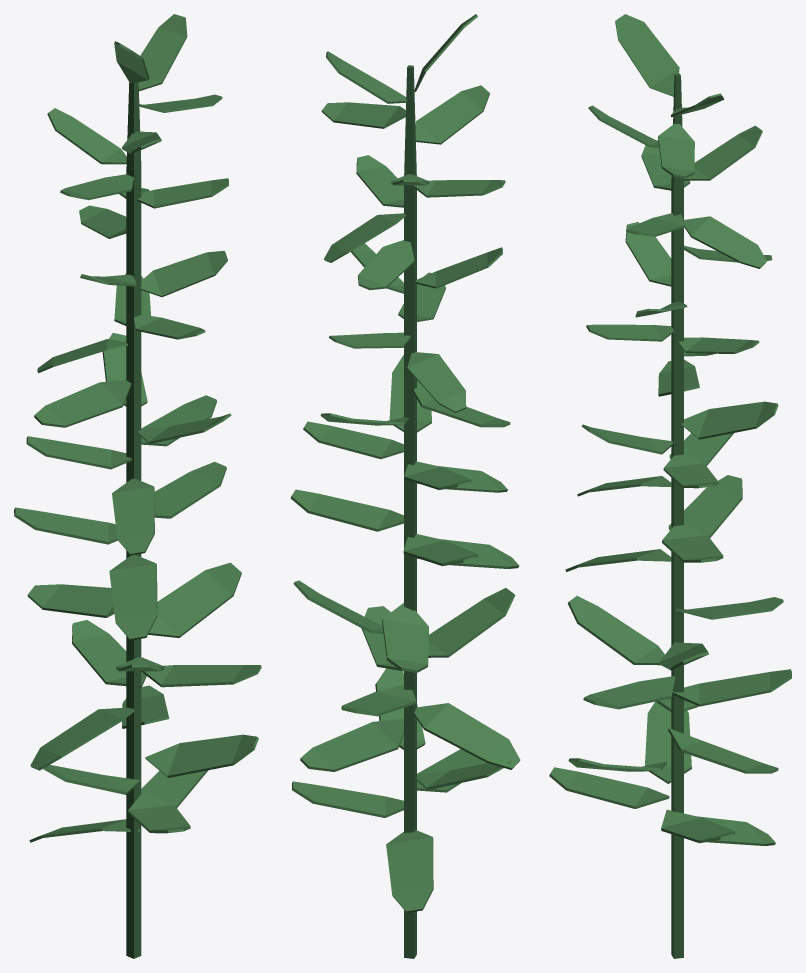
The model's file is Seaweed_003.glb.
3 views of the same model, side by side, from view 1: azimuth 30°, elevation 25°; view 2: azimuth 150°, elevation 25°; view 3: azimuth 270°, elevation 25° (orthographic). The views are drawn at different scales.
Visible parts, largest first — view 1: Seaweed_003; view 2: Seaweed_003; view 3: Seaweed_003.
Boxes of the visible parts, box(x1,y1,x2,y2) form: Seaweed_003: box(14, 14, 261, 958); Seaweed_003: box(290, 14, 520, 958); Seaweed_003: box(549, 14, 791, 958).
Size of the model in its own units: 0.524 by 2.2 by 0.5239.
Materials: 1 (1 with a texture image).
